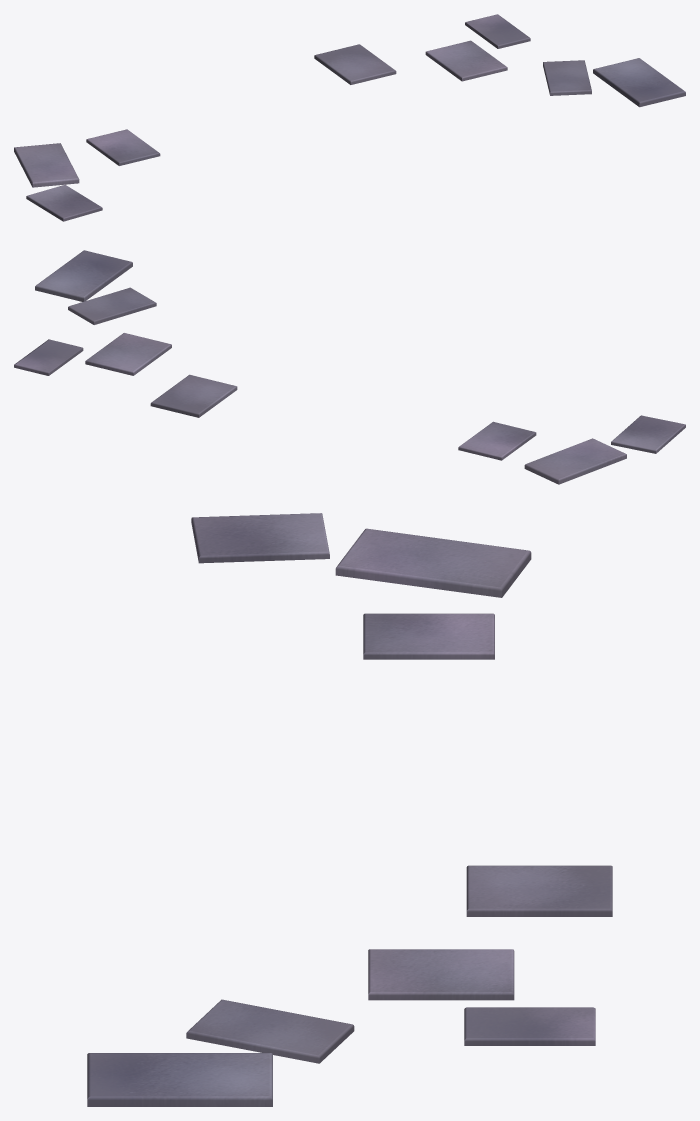
Rendered from tiles for second place.fbx.
3 views of the same model, one above another, from view 1: azimuth 30°, elevation 25°; view 2: azimuth 150°, elevation 25°; view 3: azimuth 270°, elevation 25° (orthographic). The views are drawn at different scales.
Parts seen in each view (by area): view 1: tiles1; view 2: tiles1; view 3: tiles1.
Part boxes in pixels (x1,y1,x2,y2): tiles1: (14, 14, 685, 221); tiles1: (14, 250, 685, 484); tiles1: (87, 513, 612, 1106).
Size of the model in its own units: 23.41 by 0.1753 by 8.87.
